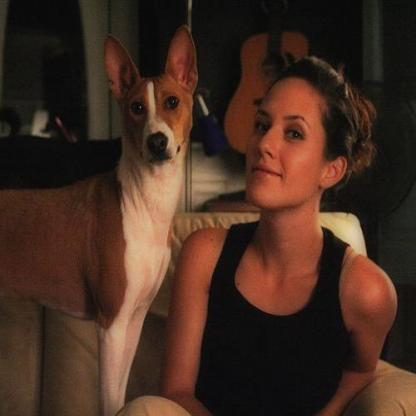basenji: (0, 25, 196, 413)
